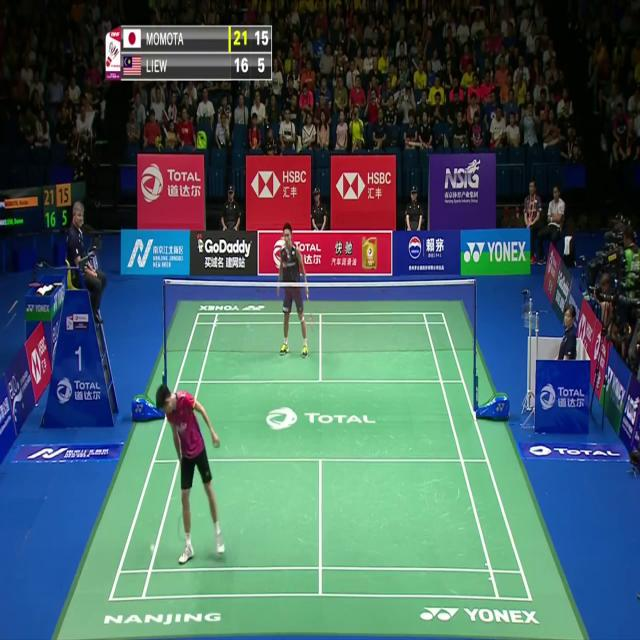Shuttlecock: (149, 543, 156, 554)
